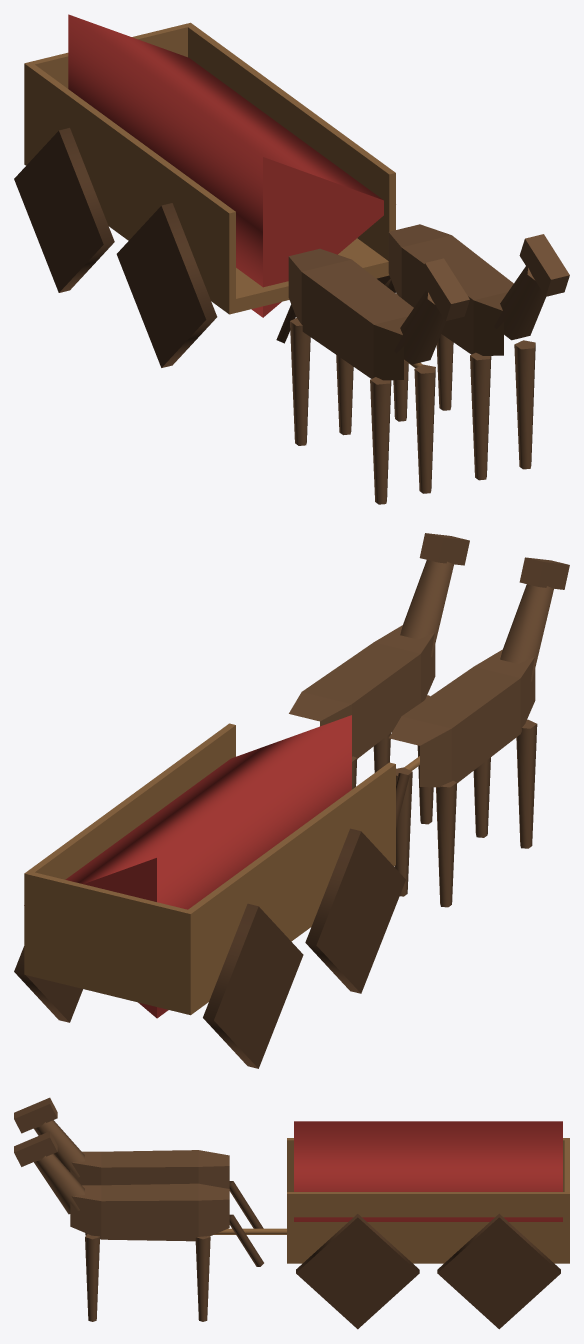
The model's file is veh_ground_caravan_a03_lod2.glb.
The picture shows the model from 3 angles, top to bottom: view 1: azimuth 30°, elevation 25°; view 2: azimuth 150°, elevation 25°; view 3: azimuth 270°, elevation 25°; orthographic projection. The views are drawn at different scales.
Parts seen in each view (by area): view 1: body, animal_0, animal_1, wheel_2, wheel_0; view 2: body, animal_0, animal_1, wheel_2, wheel_0, wheel_1; view 3: body, animal_1, animal_0, wheel_3, wheel_1.
Boxes of the visible parts, left/top/right/bottom form: body: left=24, top=14, right=422, bottom=368; animal_0: left=276, top=248, right=469, bottom=504; animal_1: left=388, top=224, right=569, bottom=480; wheel_2: left=116, top=203, right=217, bottom=367; wheel_0: left=14, top=128, right=114, bottom=292; body: left=24, top=715, right=419, bottom=1018; animal_0: left=389, top=557, right=569, bottom=907; animal_1: left=289, top=533, right=469, bottom=824; wheel_2: left=305, top=828, right=405, bottom=993; wheel_0: left=203, top=903, right=303, bottom=1068; wheel_1: left=14, top=946, right=82, bottom=1022; body: left=214, top=1121, right=569, bottom=1263; animal_1: left=14, top=1131, right=263, bottom=1321; animal_0: left=14, top=1097, right=263, bottom=1228; wheel_3: left=296, top=1214, right=419, bottom=1329; wheel_1: left=437, top=1213, right=560, bottom=1329.
Size of the model in its own units: 1.8 by 2.23 by 6.29.
